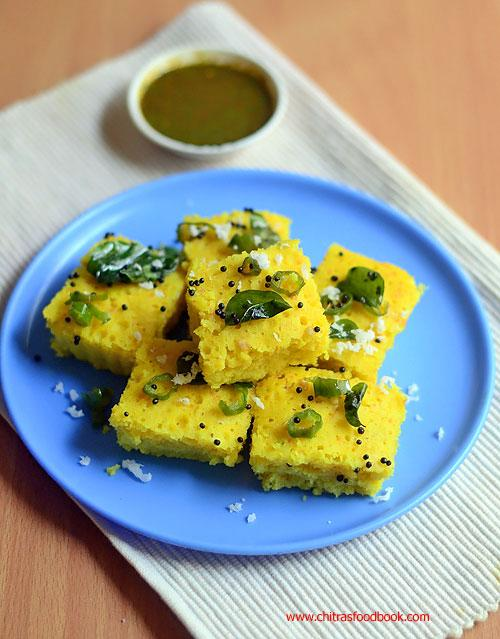yellow dhokla: (37, 216, 415, 521)
